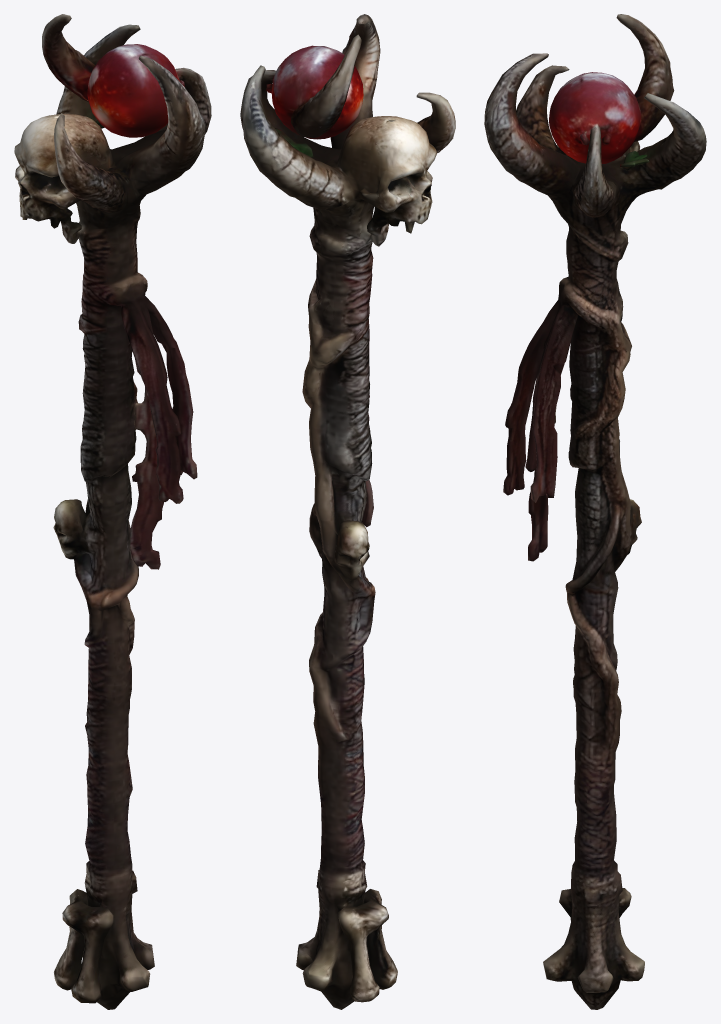
Rendered from skullhorn_staff.glb.
3 renders of one model, left to right at view 1: azimuth 30°, elevation 25°; view 2: azimuth 150°, elevation 25°; view 3: azimuth 270°, elevation 25°, orthographic.
Parts seen in each view (by area): view 1: skullhorn_staff; view 2: skullhorn_staff; view 3: skullhorn_staff.
Part boxes in pixels (x1,y1,x2,y2): skullhorn_staff: [14, 14, 211, 1009]; skullhorn_staff: [240, 14, 455, 1009]; skullhorn_staff: [484, 14, 706, 1009].
Size of the model in its own units: 0.3013 by 1.5 by 0.308.
Materials: 1 (1 with a texture image).
